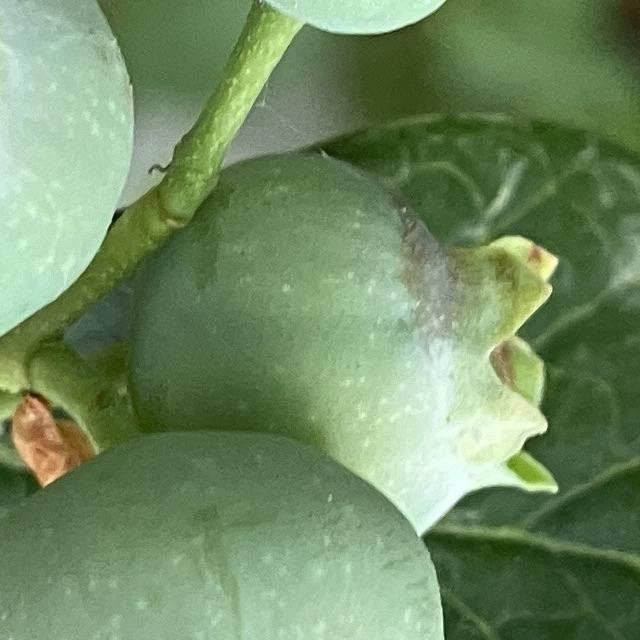Blueberries: (0, 426, 448, 640), (0, 0, 136, 370)
